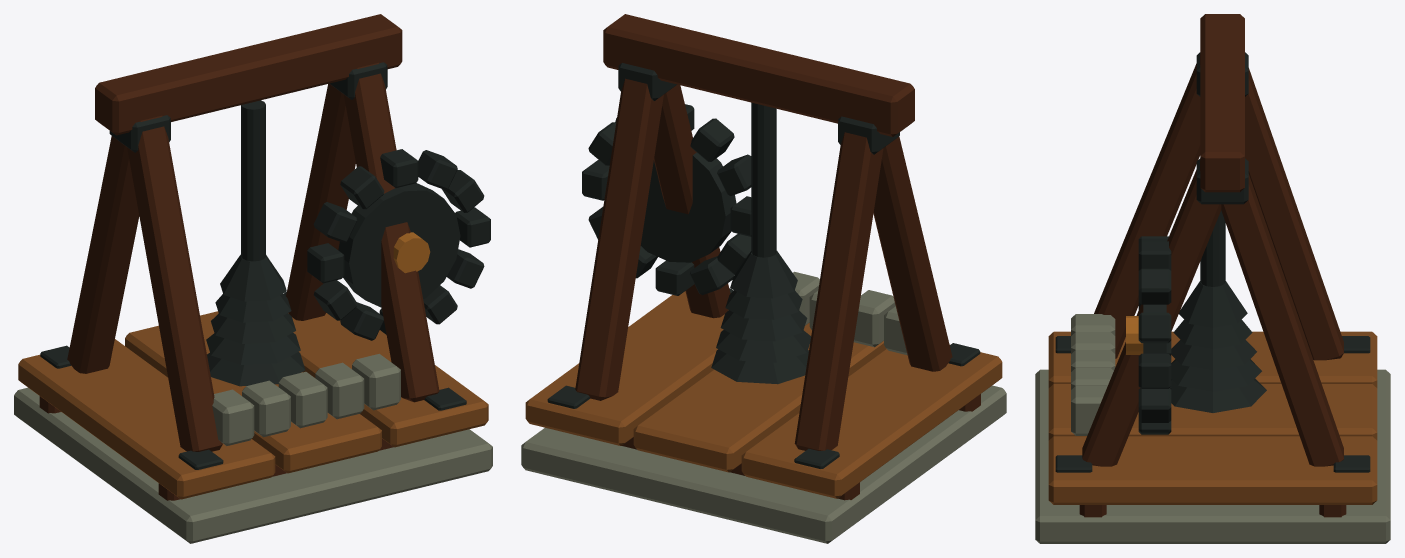
The model's file is mine.glb.
3 renders of one model, left to right at view 1: azimuth 30°, elevation 25°; view 2: azimuth 150°, elevation 25°; view 3: azimuth 270°, elevation 25°, orthographic.
Visible parts, largest first — view 1: mine_body, Hub.002, Drill cone; view 2: mine_body, Hub.002, Drill cone; view 3: mine_body, Drill cone, Hub.002.
Part boxes in pixels (x1,y1,x2,y2): mine_body: [14, 14, 492, 543]; Hub.002: [307, 149, 490, 340]; Drill cone: [206, 254, 305, 386]; mine_body: [521, 14, 1006, 543]; Hub.002: [582, 104, 751, 295]; Drill cone: [711, 251, 811, 384]; mine_body: [1035, 14, 1390, 543]; Drill cone: [1171, 281, 1266, 412]; Hub.002: [1126, 236, 1171, 434].
Bounding box in the file's own units: 2.15 × 2.21 × 1.84.
